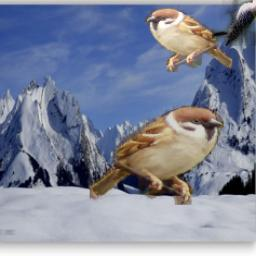Sparrow: (90, 107, 224, 206), (146, 9, 233, 73)
Woodpecker: (212, 0, 256, 46)
